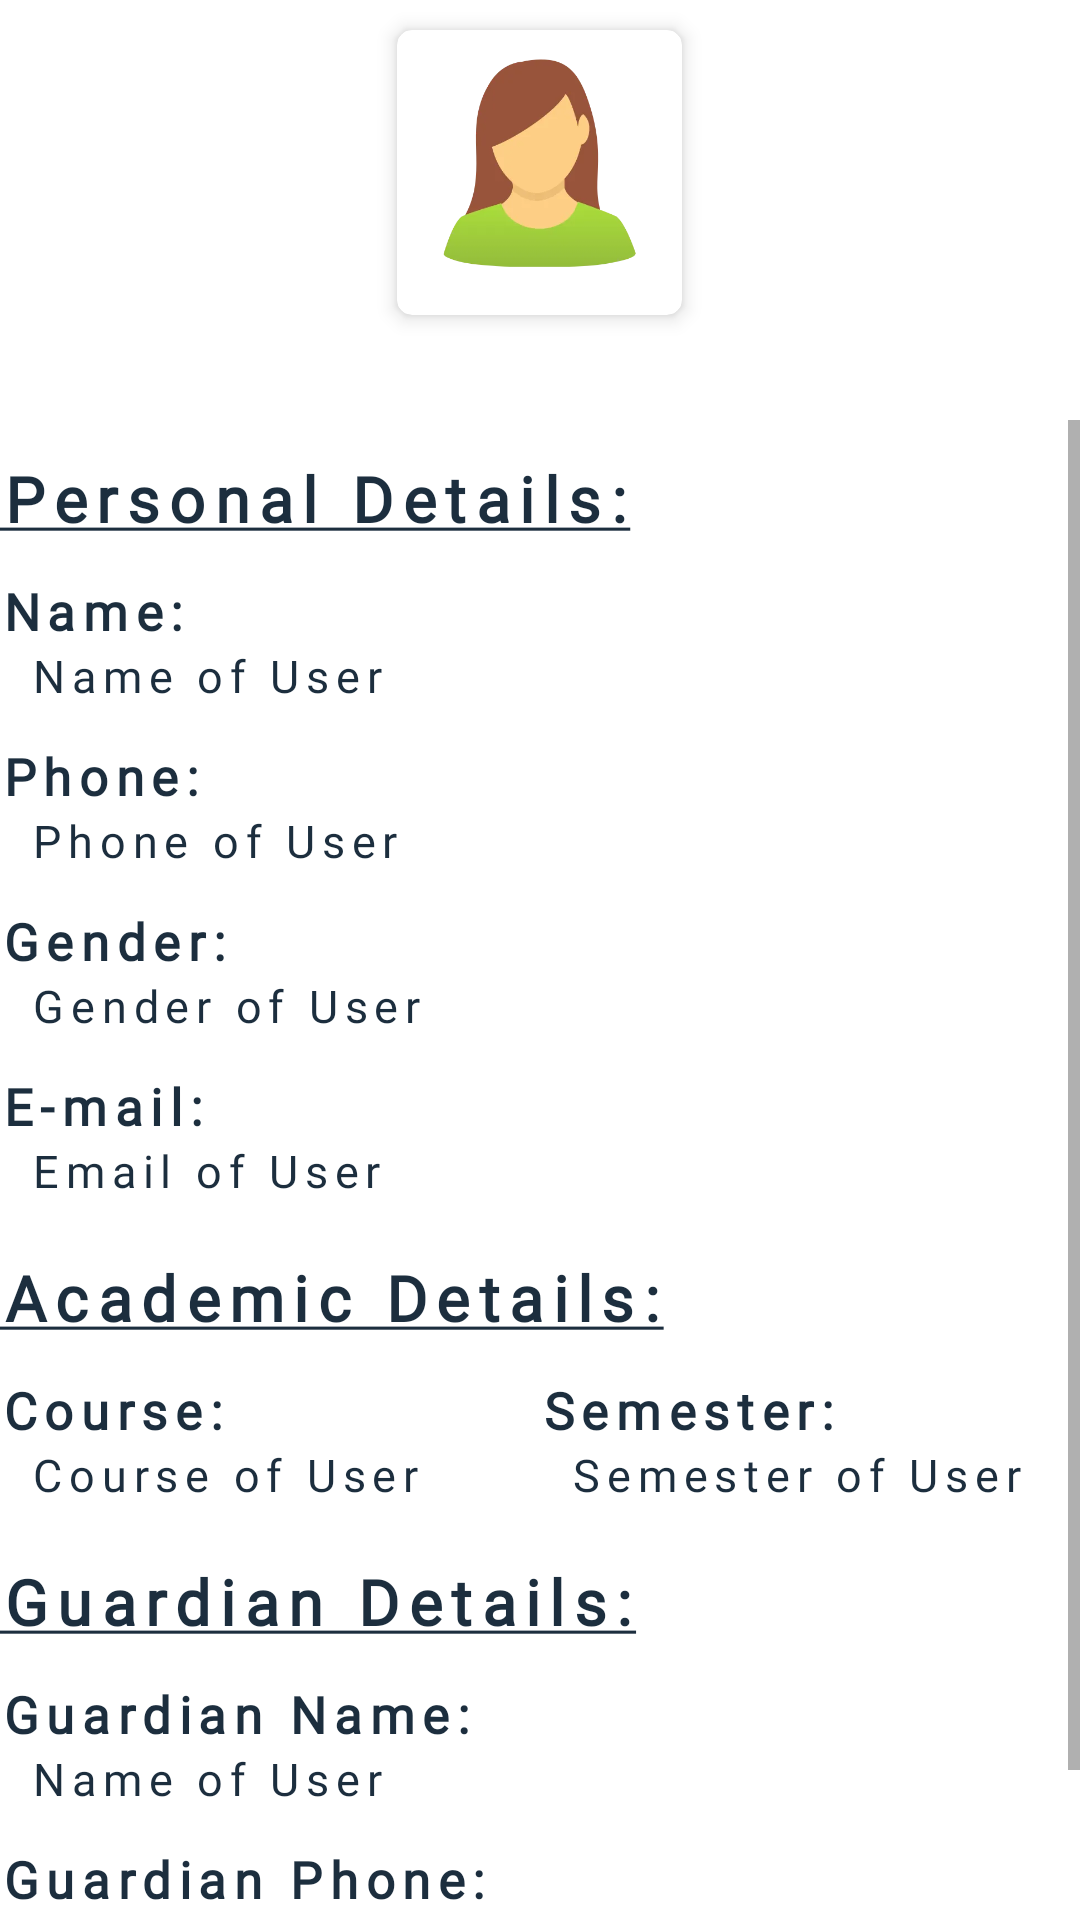

Screen size 1080px x 1920px. Icon name, then its center in pixels as point (x, y):
profile: point (540, 163)
